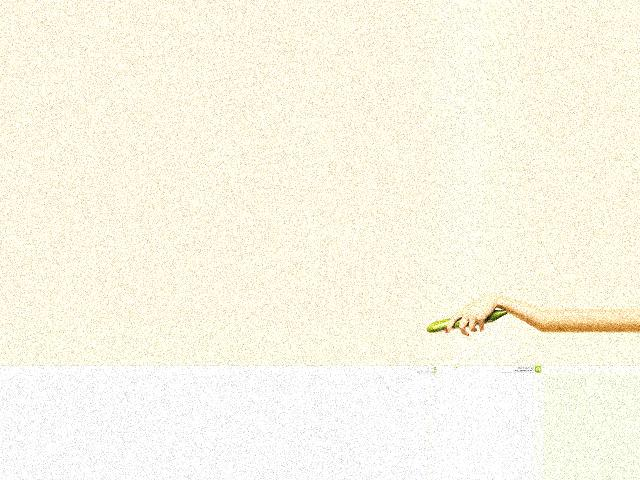cucumber: (426, 310, 508, 333)
